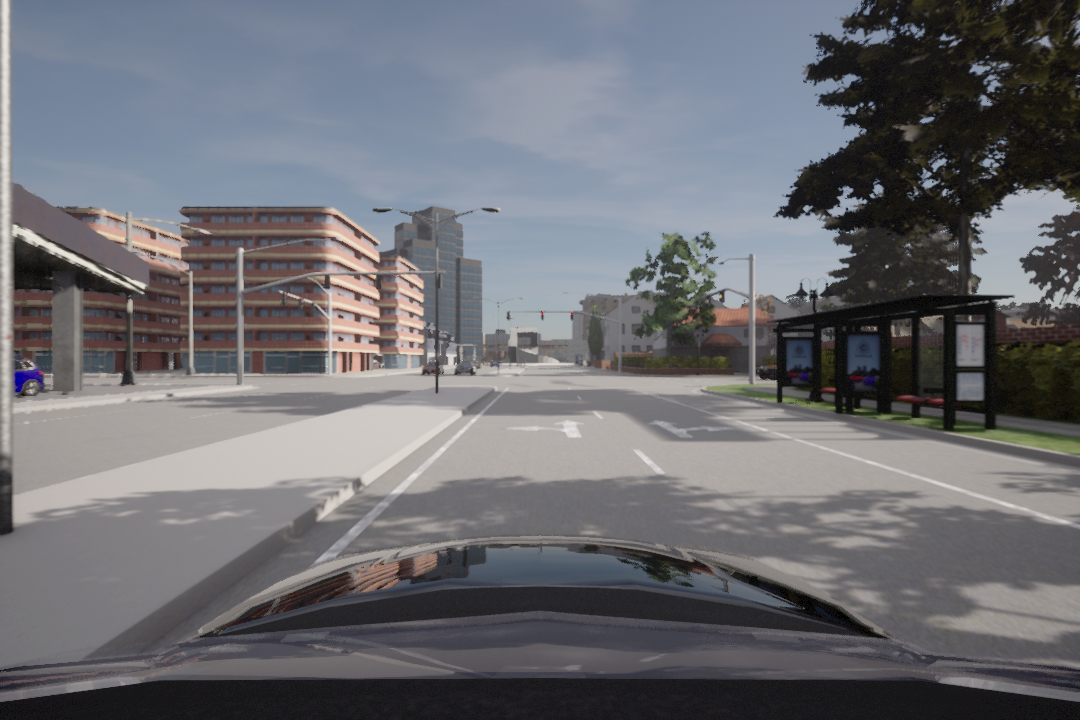RoadSign_forward_left: (503, 413, 590, 444)
RoadSign_forward_right: (644, 414, 737, 445)
